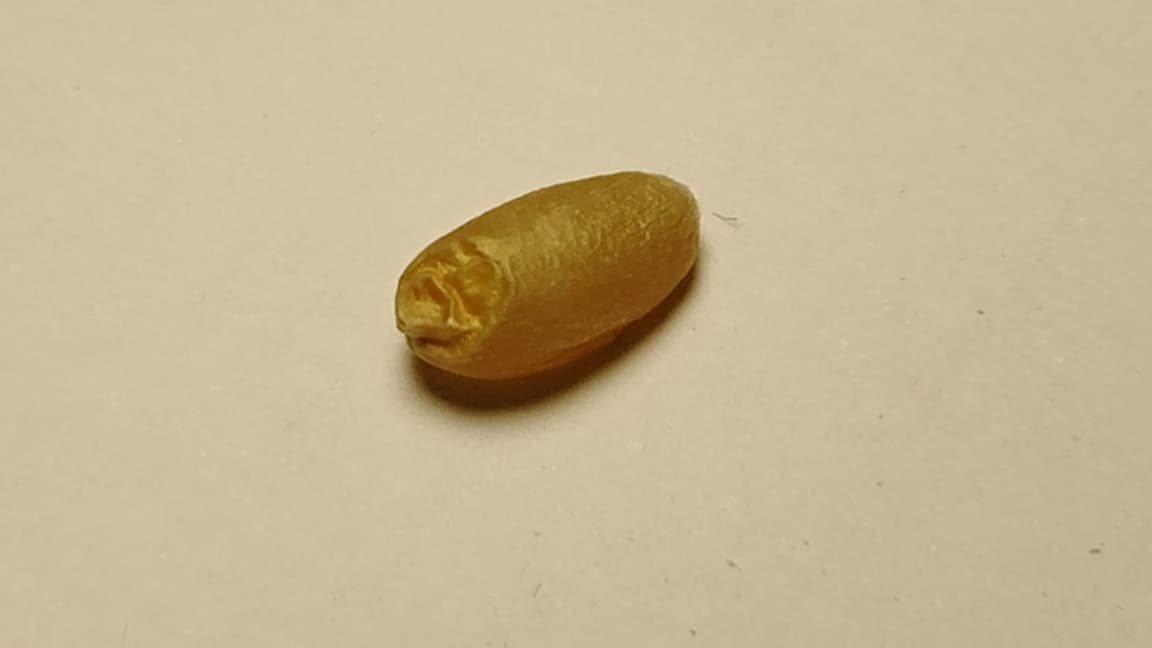healthy: (395, 170, 699, 380)
